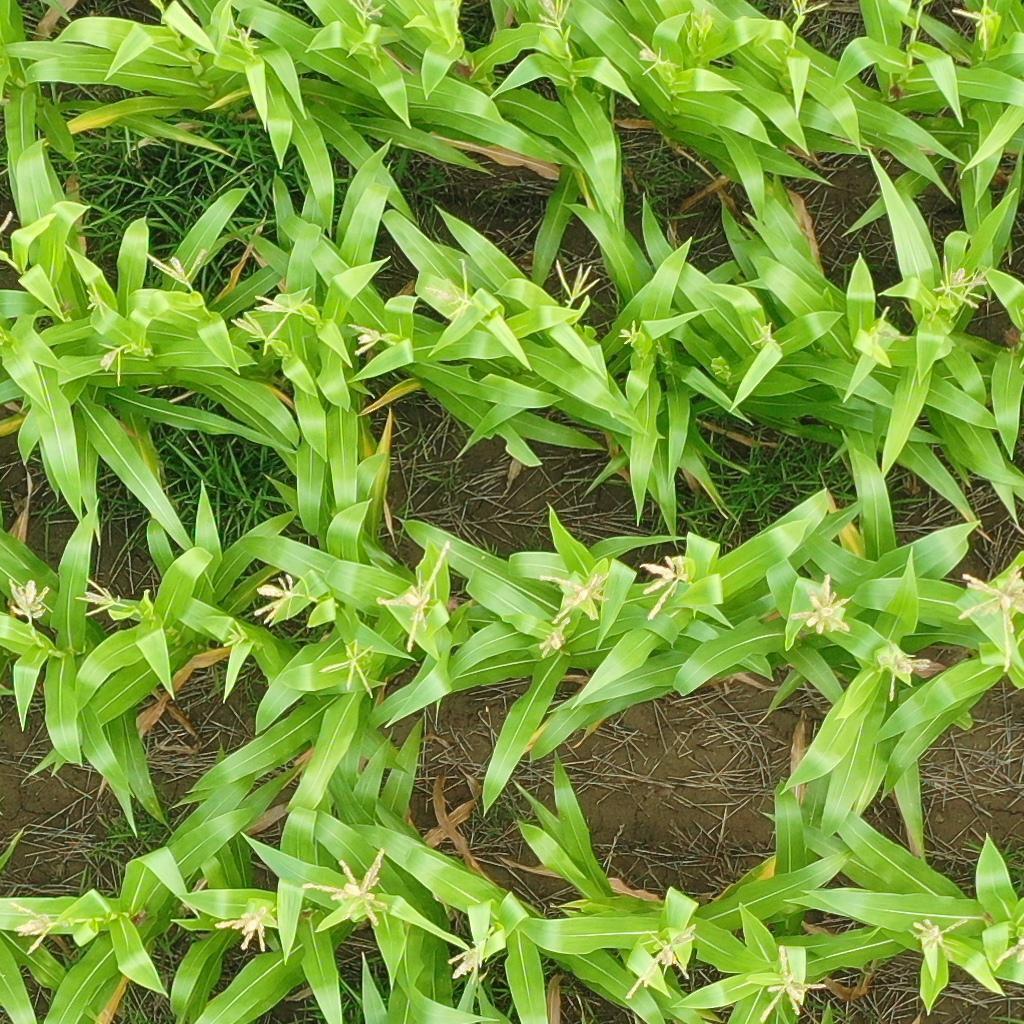Tassel: (374, 539, 452, 657), (957, 565, 1024, 675), (302, 845, 391, 927), (626, 918, 701, 1002), (755, 943, 827, 1020), (787, 573, 855, 635), (317, 633, 379, 699), (539, 572, 615, 623), (878, 638, 935, 703), (639, 555, 692, 622), (423, 257, 476, 316), (933, 253, 988, 308), (215, 902, 273, 954), (8, 900, 59, 956), (251, 574, 306, 625), (909, 916, 969, 960), (143, 246, 207, 284), (554, 259, 602, 309), (255, 291, 317, 329), (100, 340, 149, 388), (447, 932, 489, 988), (948, 1, 998, 48), (6, 576, 51, 627), (628, 32, 679, 76), (73, 576, 123, 620), (867, 304, 910, 355), (232, 310, 278, 354), (345, 320, 399, 355), (539, 615, 569, 659), (535, 1, 569, 30), (228, 27, 263, 55), (966, 265, 993, 300), (84, 282, 110, 318), (750, 317, 777, 349), (223, 620, 247, 653), (617, 317, 643, 347), (998, 934, 1024, 964), (349, 1, 385, 20), (692, 7, 713, 39), (790, 1, 831, 16), (710, 362, 727, 378)
